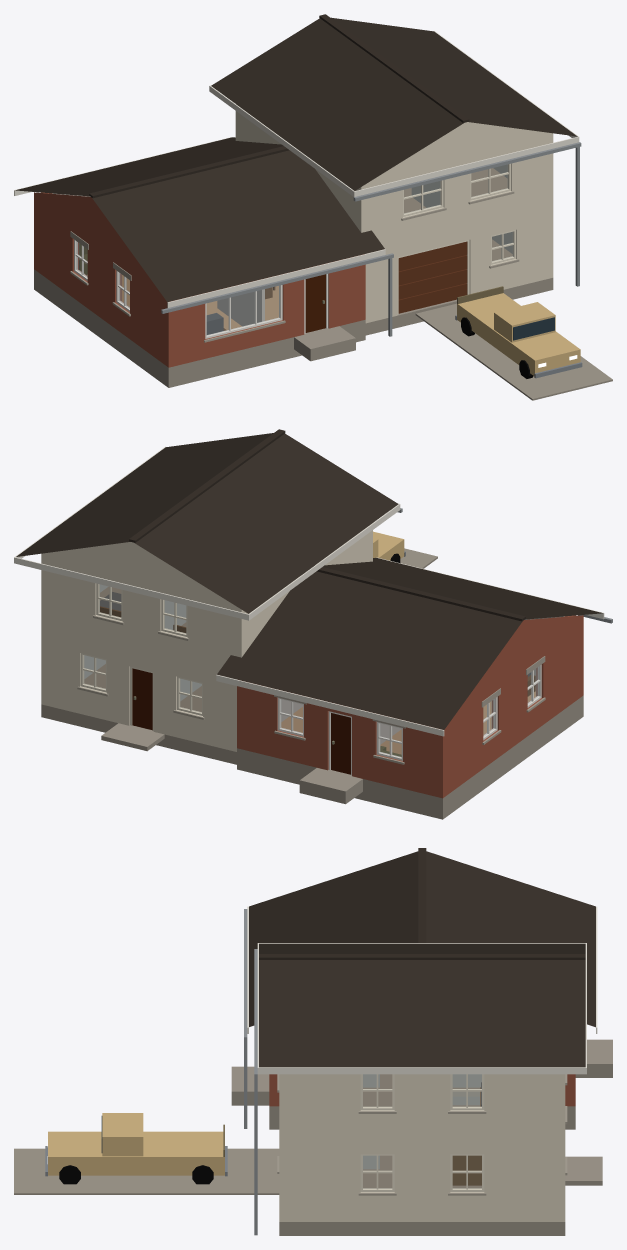
File: split.glb
3 renders of one model, top to bottom at view 1: azimuth 30°, elevation 25°; view 2: azimuth 150°, elevation 25°; view 3: azimuth 270°, elevation 25°, orthographic. The views are drawn at different scales.
Visible parts, largest first — view 1: LOD0, LEAF0, FURN; view 2: LOD0, LEAF2, LEAF1, FURN; view 3: LOD0.
Boxes of the visible parts, left/top/right/bottom form: LOD0: left=14, top=14, right=612, bottom=400; LEAF0: left=305, top=274, right=325, bottom=332; FURN: left=79, top=243, right=275, bottom=334; LOD0: left=14, top=429, right=612, bottom=819; LEAF2: left=132, top=668, right=152, bottom=730; LEAF1: left=331, top=713, right=350, bottom=774; FURN: left=100, top=592, right=535, bottom=756; LOD0: left=14, top=848, right=612, bottom=1235.
Size of what is drawn, in the model's own units: 16.32 by 7.36 by 17.6.
